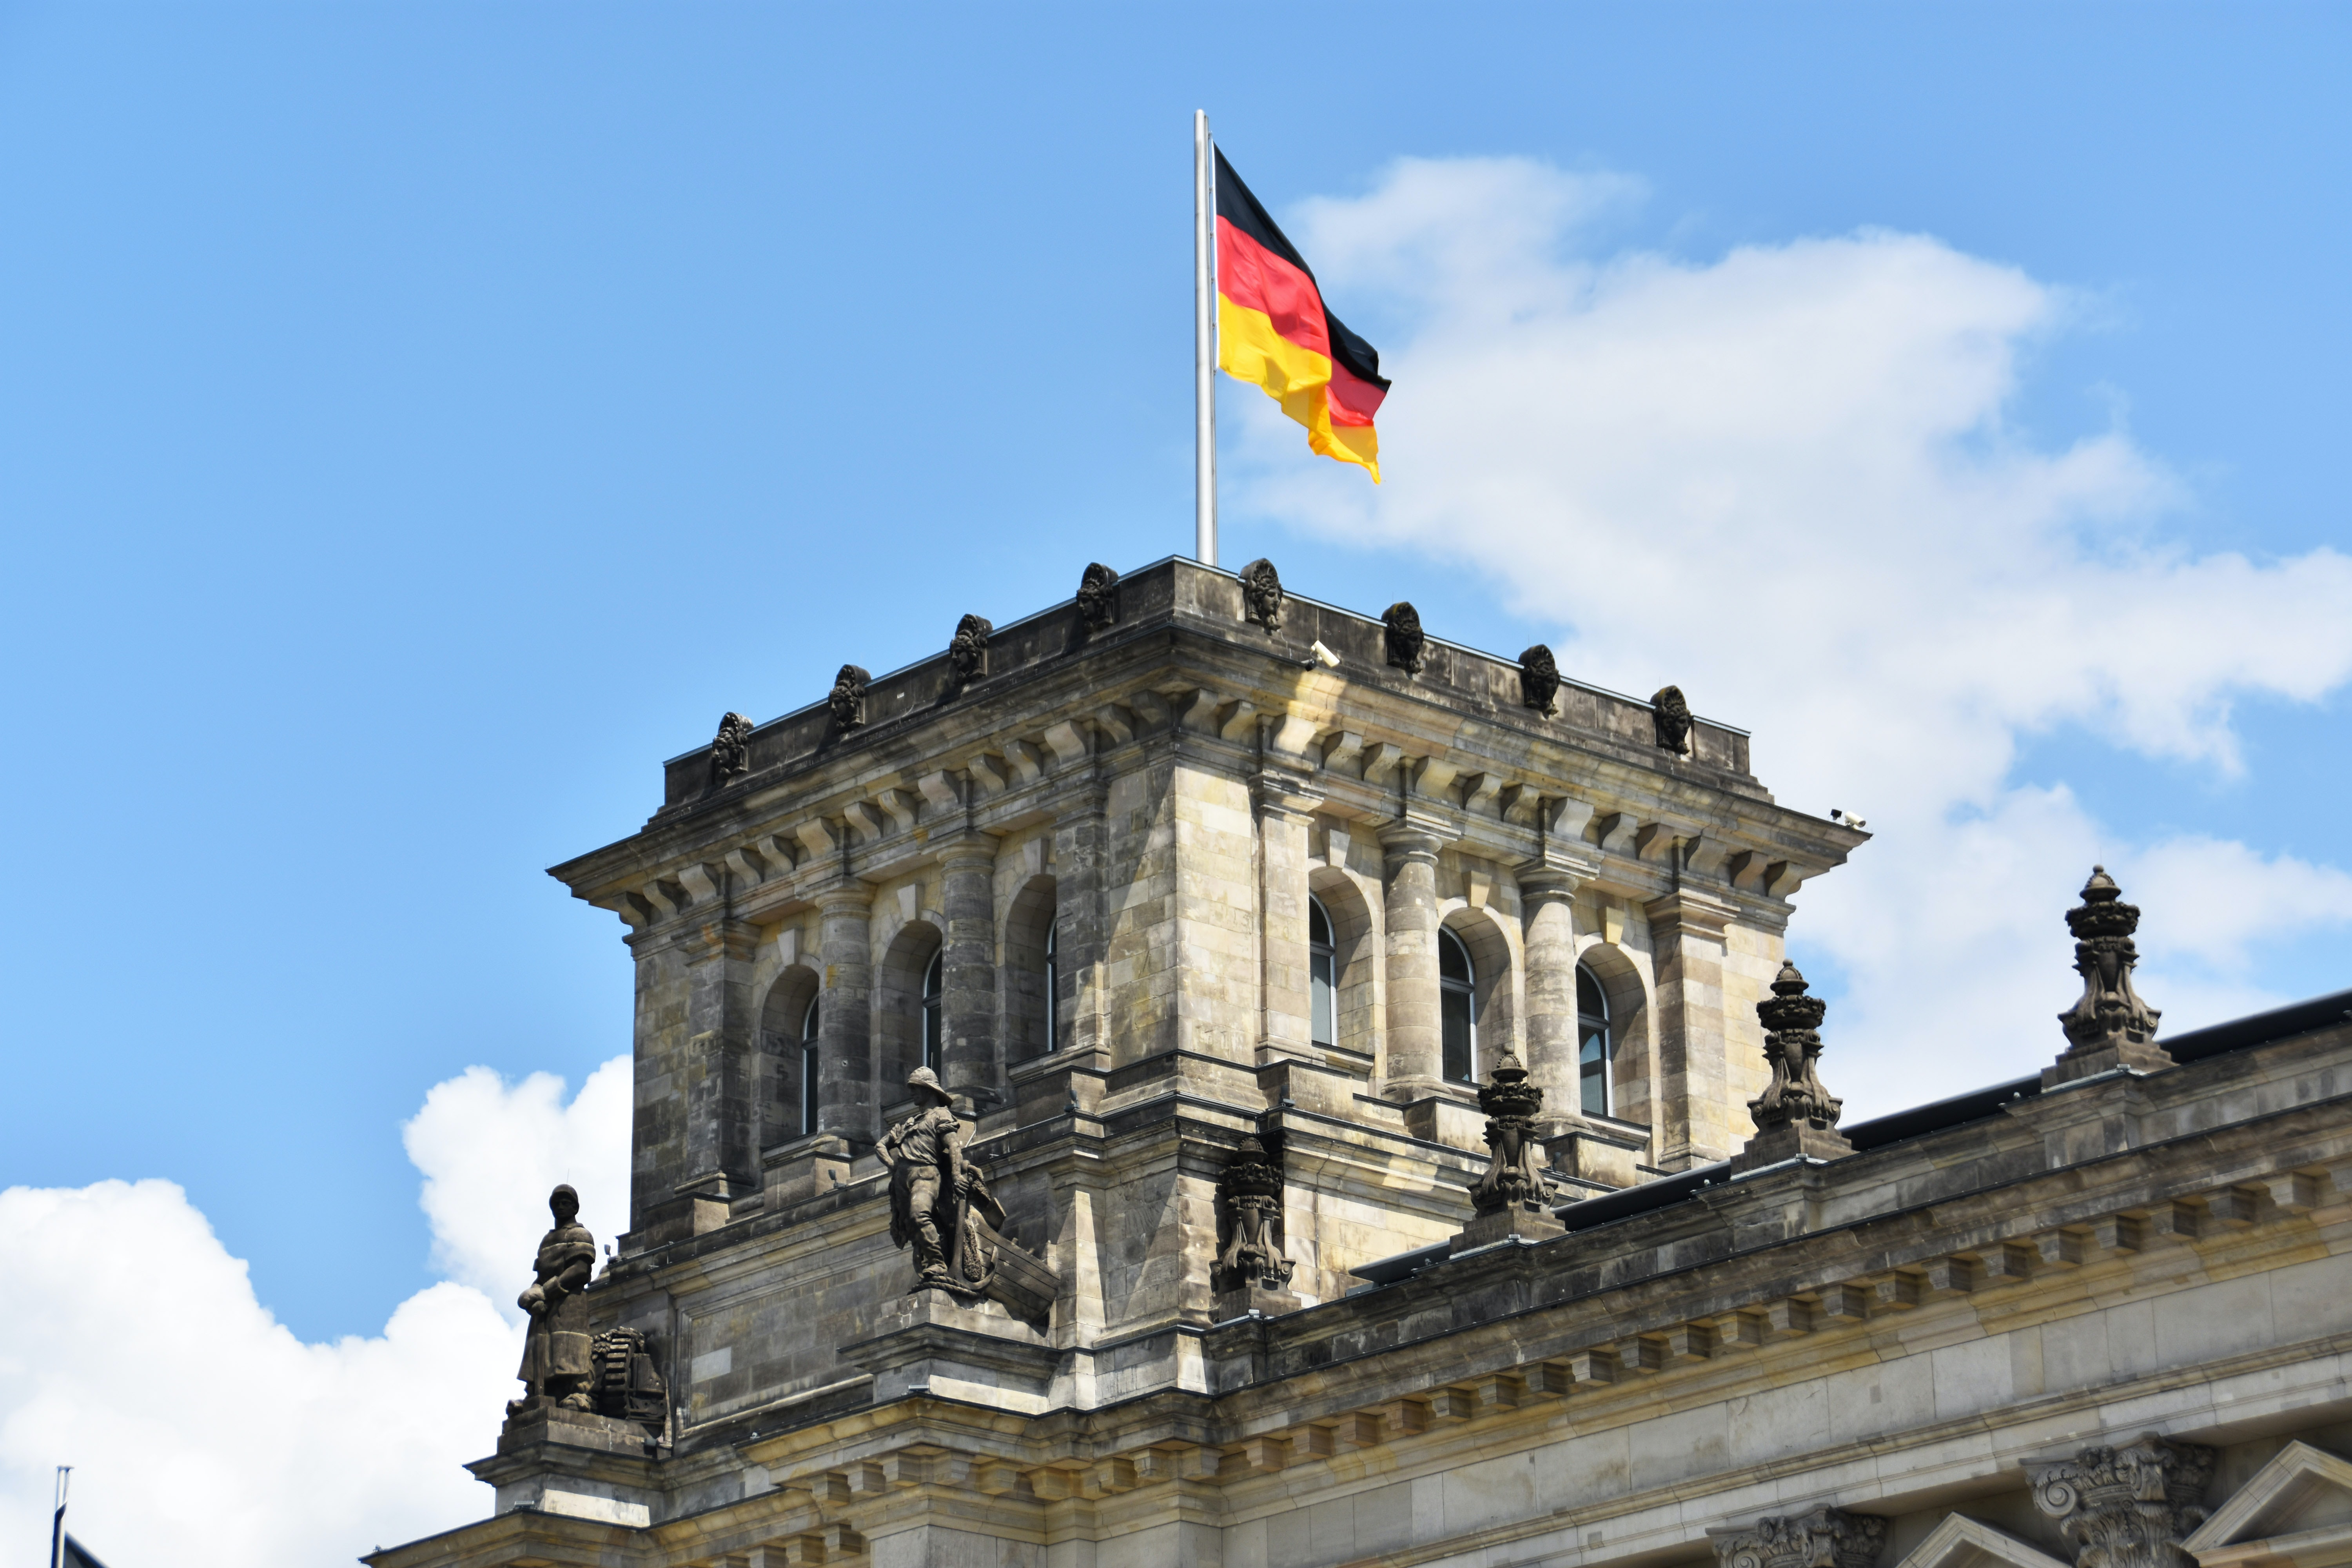Flag: (1214, 135, 1395, 481)
